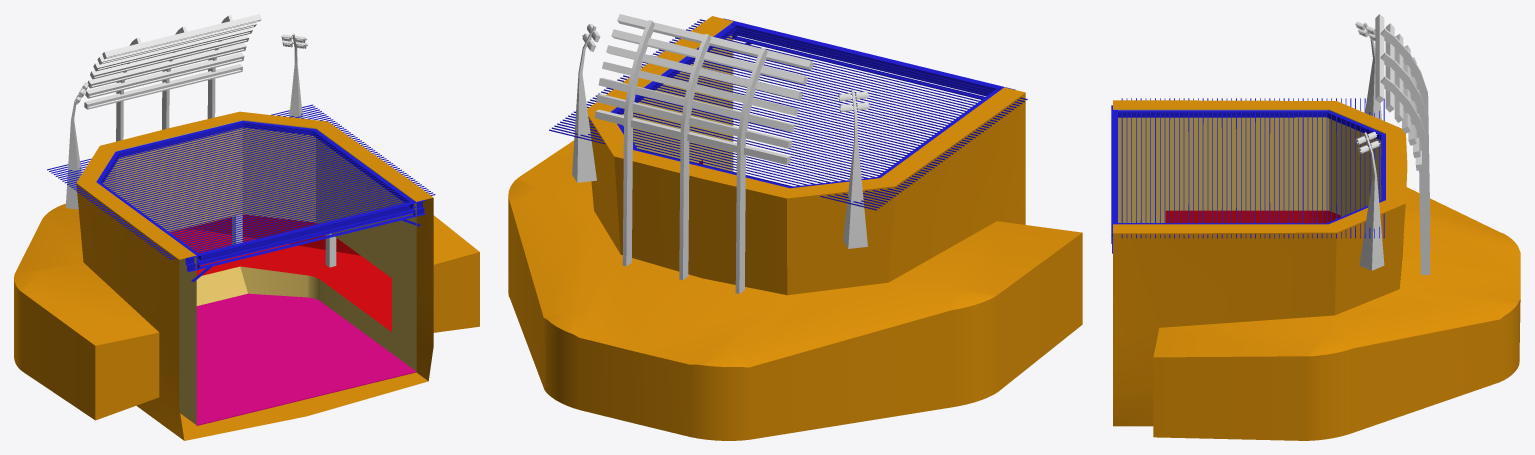
Rendered from Ghost_Arena_OFFI.fbx.
3 renders of one model, left to right at view 1: azimuth 30°, elevation 25°; view 2: azimuth 150°, elevation 25°; view 3: azimuth 270°, elevation 25°, orthographic. The views are drawn at different scales.
Parts seen in each view (by area): view 1: Plane.010, Plane.013, tOIT.001, Sol.002, Cylinder, Plane.016, Plane.015, Plane.018, Cube.009; view 2: Plane.010, tOIT.001, Cylinder, Plane.013; view 3: Plane.010, Plane.013, tOIT.001, Cylinder, Plane.018.
Boxes of the visible parts, left/top/right/bottom form: Plane.010: left=14, top=111, right=479, bottom=440; Plane.013: left=96, top=120, right=416, bottom=403; tOIT.001: left=47, top=104, right=435, bottom=281; Sol.002: left=196, top=293, right=416, bottom=425; Cylinder: left=65, top=14, right=307, bottom=209; Plane.016: left=170, top=230, right=391, bottom=331; Plane.015: left=179, top=266, right=416, bottom=424; Plane.018: left=171, top=214, right=360, bottom=255; Cube.009: left=232, top=214, right=336, bottom=267; Plane.010: left=508, top=16, right=1082, bottom=440; tOIT.001: left=549, top=18, right=1027, bottom=210; Cylinder: left=572, top=14, right=870, bottom=293; Plane.013: left=610, top=21, right=733, bottom=171; Plane.010: left=1113, top=100, right=1520, bottom=440; Plane.013: left=1113, top=109, right=1385, bottom=222; tOIT.001: left=1111, top=98, right=1385, bottom=253; Cylinder: left=1355, top=14, right=1430, bottom=274; Plane.018: left=1165, top=210, right=1340, bottom=223.
Size of the model in its own units: 5430 by 3945 by 4617.
